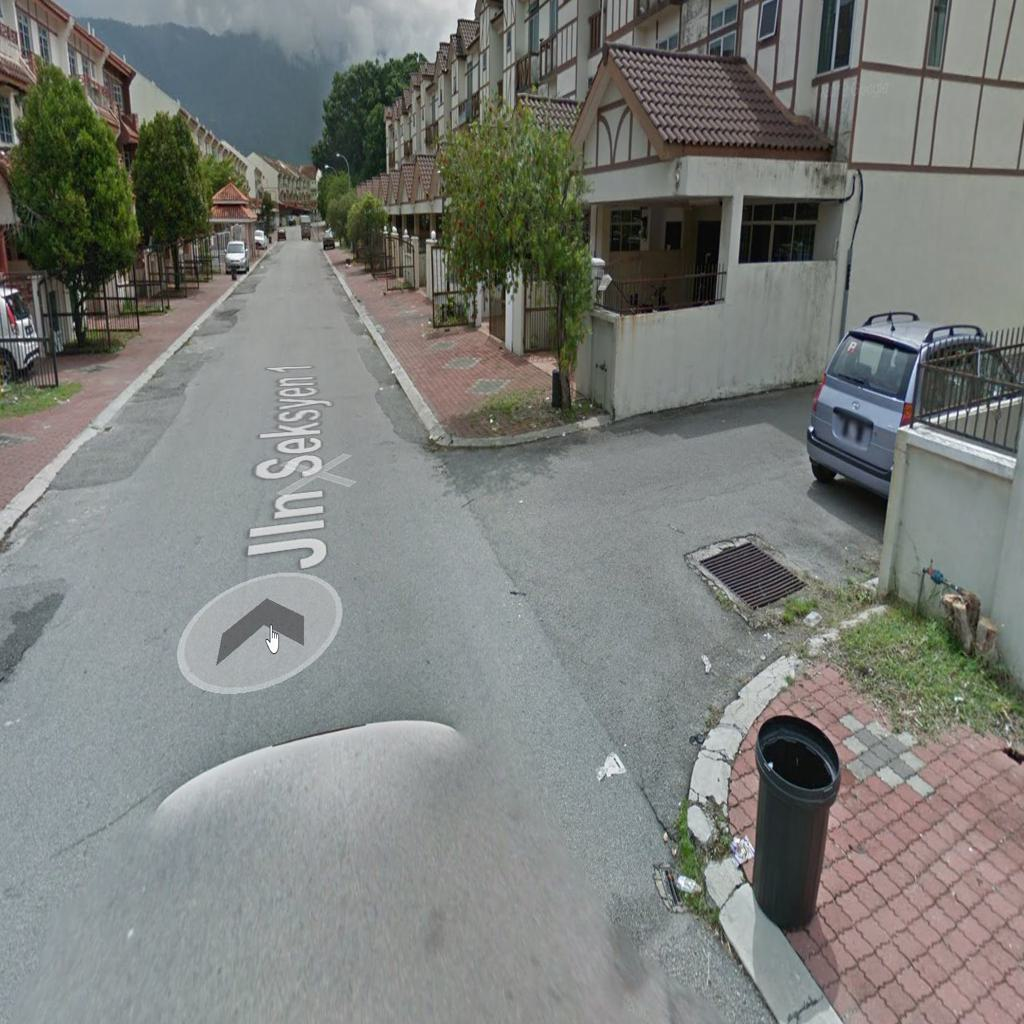Junction: (373, 387, 899, 818)
